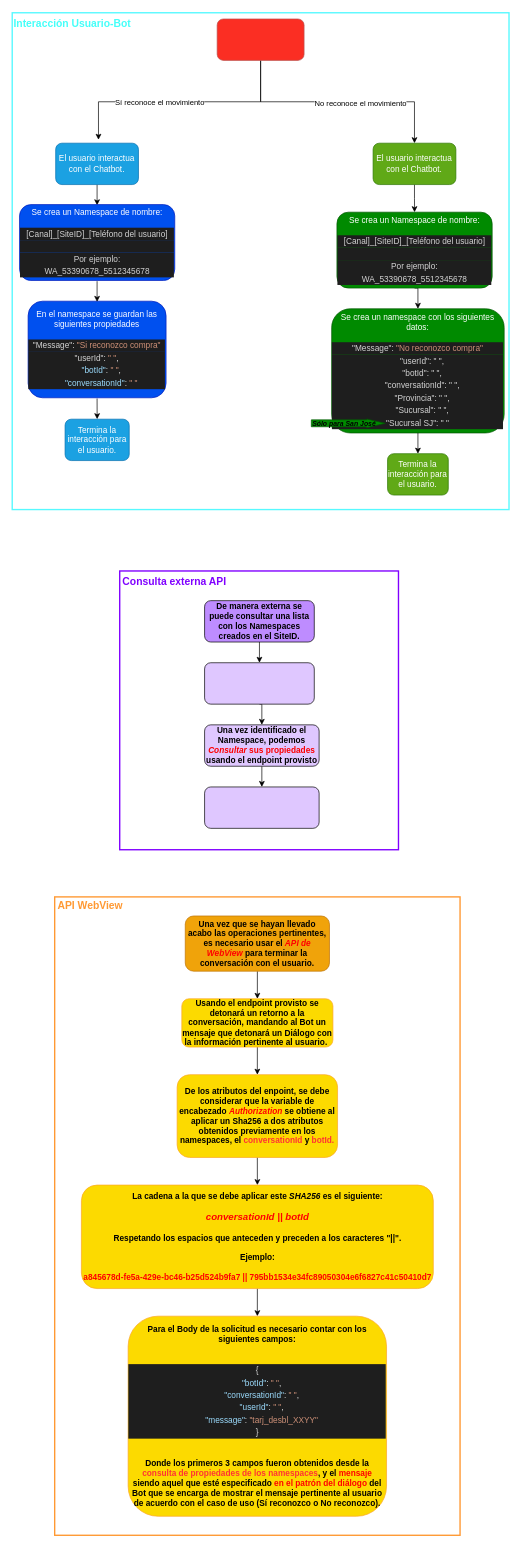
This 522x1548 diagram has some shape labels left out. The shapes that lost their labels are listed below. From the top down, each one's centre as x and y in pixels, then its label:
At pixel 260 39: "El usuario contesta al mensaje proactivo en el chatbot.".
At pixel 259 683: "Consultar los namespaces usando el endpoint provisto.".
At pixel 261 807: "Una vez esto hecho, se debe Borrar el namespace , usando el endpoint provisto.".
